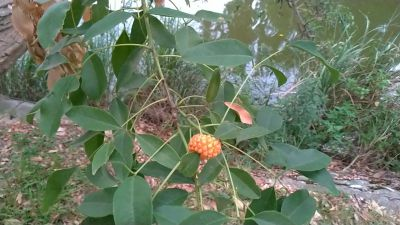eggs: (186, 131, 222, 160)
